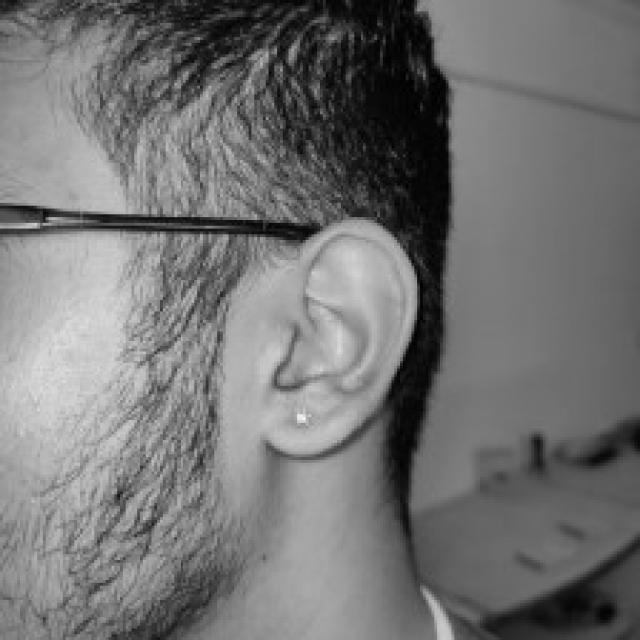ear: (266, 217, 411, 451)
